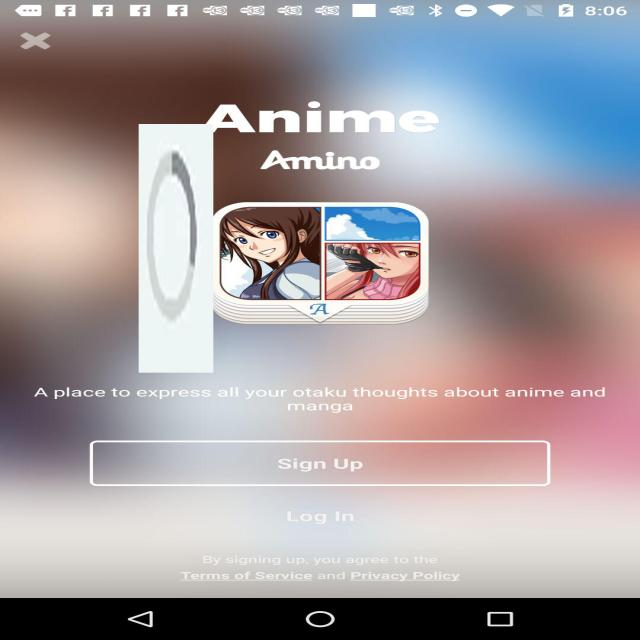misdirection: (139, 124, 213, 373)
